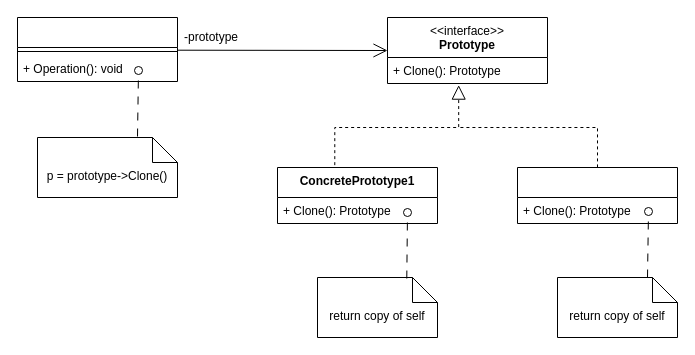
This 695x355 diagram has some shape labels left out. Here are the shapes that lost their labels. From the top down, the box of each, then its label:
(16, 16, 178, 82): Client
(516, 166, 678, 224): ConcretePrototype2
